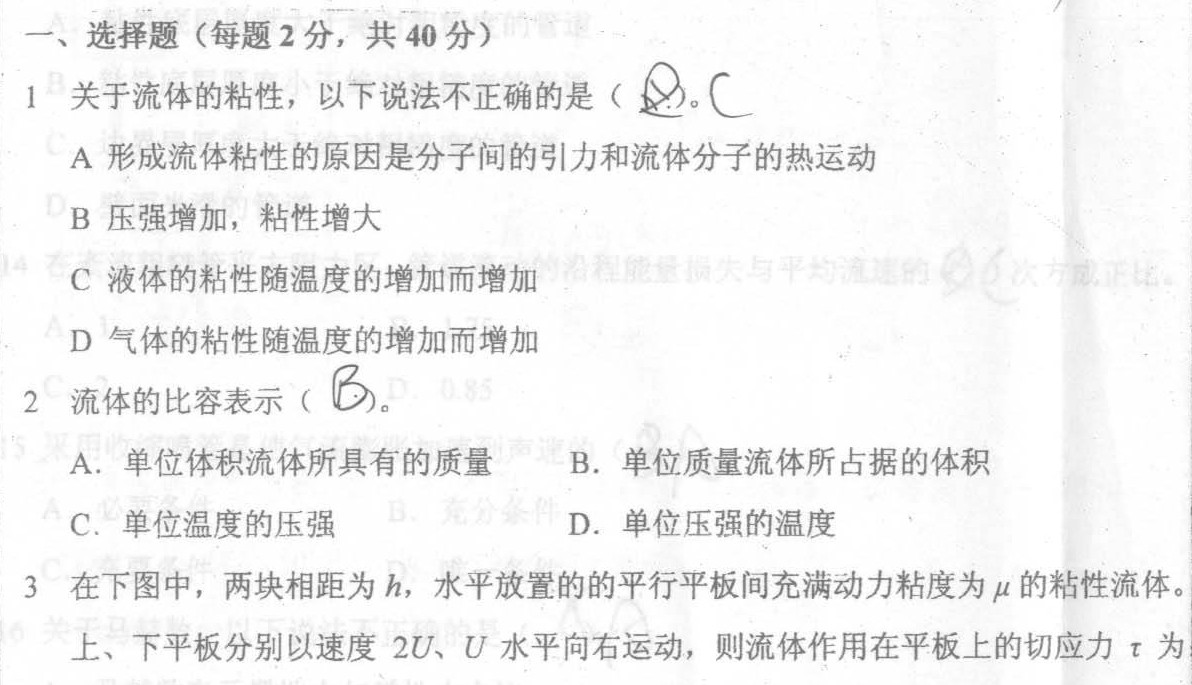text: (73, 627, 1192, 669), (28, 63, 760, 123), (16, 565, 1186, 602), (65, 445, 997, 485), (68, 504, 841, 550), (65, 140, 885, 180), (21, 13, 493, 57), (65, 262, 552, 304), (20, 366, 395, 419), (64, 324, 552, 361), (63, 200, 389, 239)
